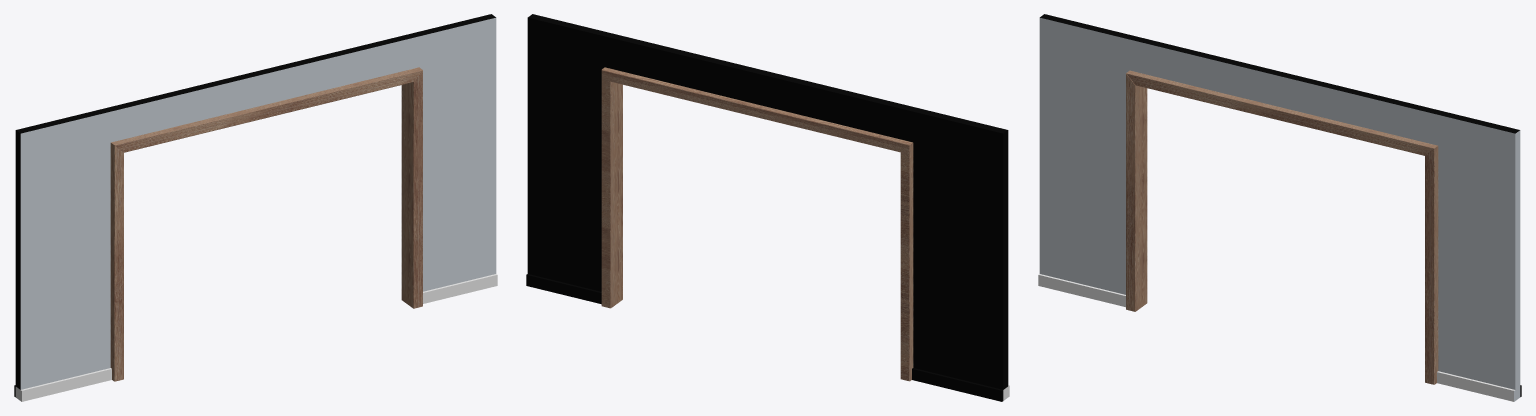
Rendered from Wall 5.FBX.
3 renders of one model, left to right at view 1: azimuth 30°, elevation 25°; view 2: azimuth 150°, elevation 25°; view 3: azimuth 330°, elevation 25°, orthographic.
Parts seen in each view (by area): view 1: Wall 5; view 2: Wall 5; view 3: Wall 5.
Part boxes in pixels (<box>): Wall 5: <box>14,14,497,401</box>; Wall 5: <box>526,14,1009,401</box>; Wall 5: <box>1038,14,1521,401</box>.
Bounding box in the file's own units: 502 × 269 × 22.33.
3 materials, 2 textured.
